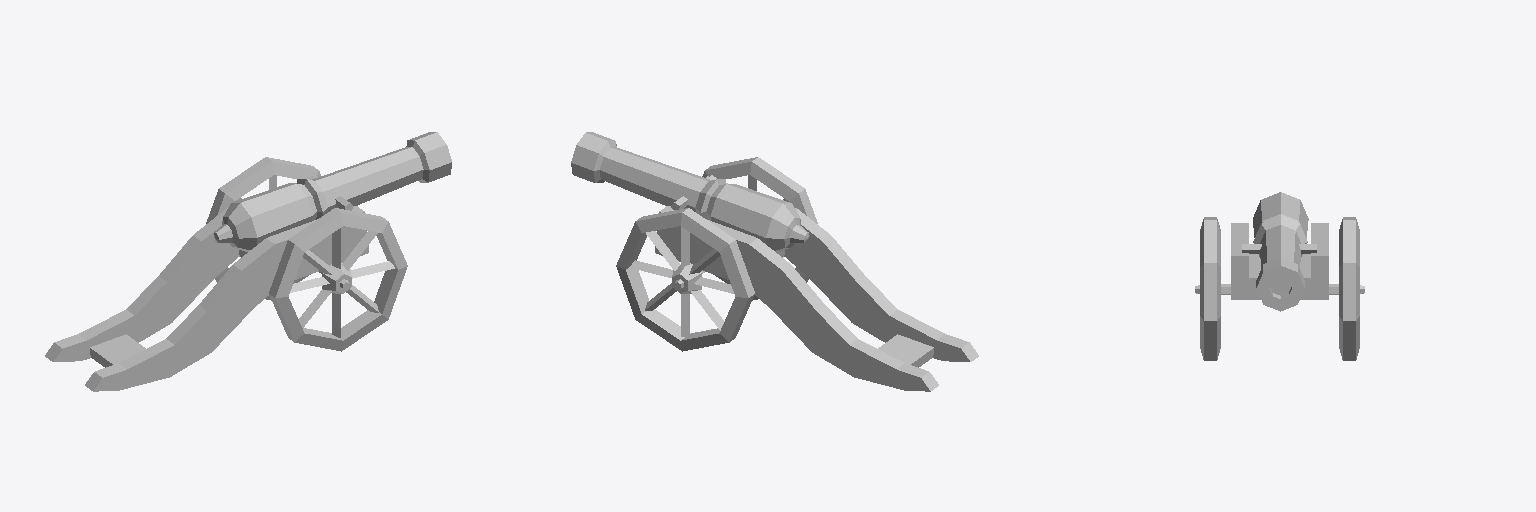
The model's file is pdx_artillery.obj.
3 renders of one model, left to right at view 1: azimuth 30°, elevation 25°; view 2: azimuth 150°, elevation 25°; view 3: azimuth 270°, elevation 25°, orthographic.
Parts seen in each view (by area): view 1: mesh-0_mesh-0-geometry-model.003; view 2: mesh-0_mesh-0-geometry-model.003; view 3: mesh-0_mesh-0-geometry-model.003.
Boxes of the visible parts, x1=… form: mesh-0_mesh-0-geometry-model.003: x1=45, y1=132, x2=451, y2=391; mesh-0_mesh-0-geometry-model.003: x1=571, y1=132, x2=978, y2=391; mesh-0_mesh-0-geometry-model.003: x1=1195, y1=192, x2=1364, y2=360.
Size of the model in its own units: 5.93 by 2.4 by 2.32.